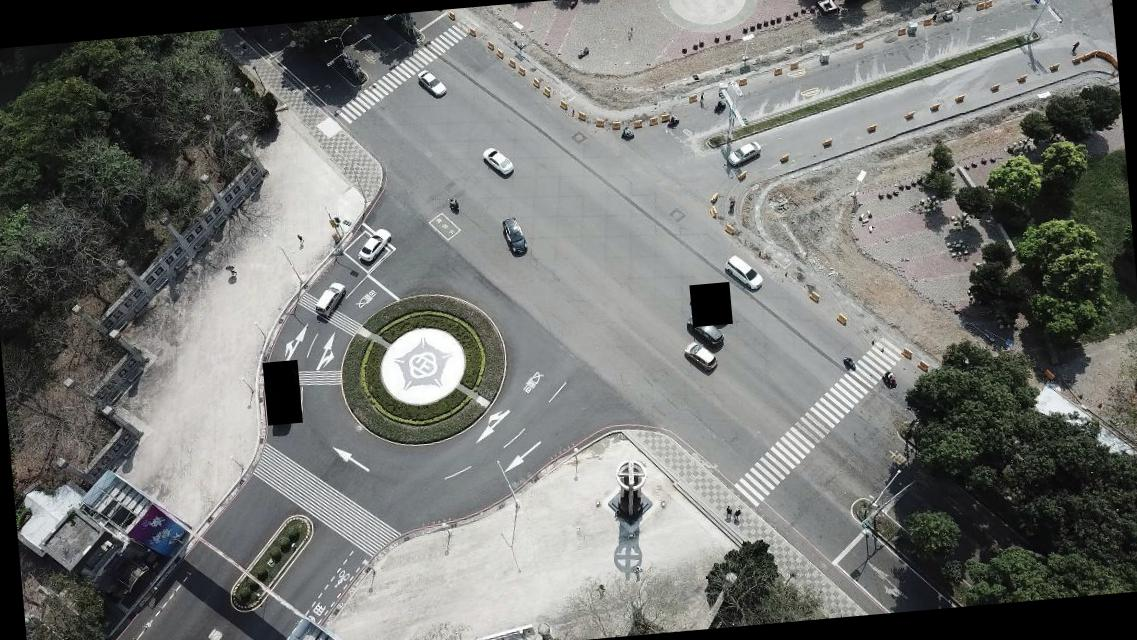vehicle: (723, 252, 764, 293), (685, 312, 725, 348), (356, 227, 392, 263), (683, 339, 718, 375), (314, 280, 346, 316), (501, 217, 528, 256), (483, 146, 514, 177), (725, 140, 761, 166), (416, 67, 447, 97)
